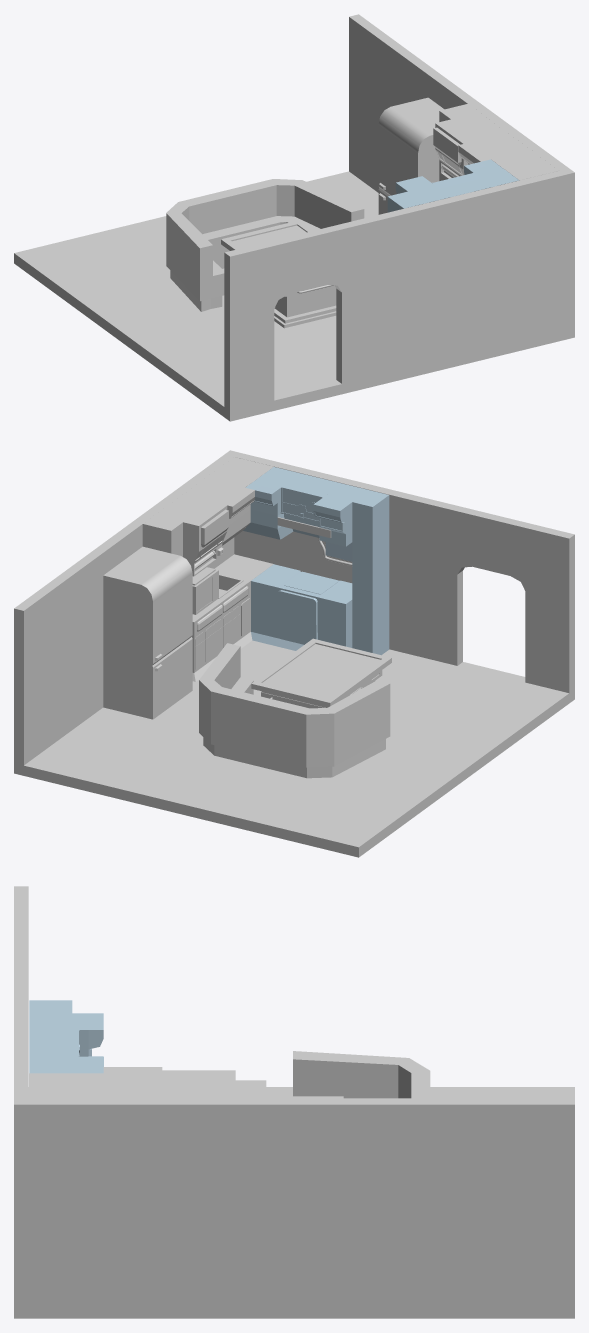
File: kitchen_exp.fbx
3 views of the same model, one above another, from view 1: azimuth 30°, elevation 25°; view 2: azimuth 150°, elevation 25°; view 3: azimuth 270°, elevation 25° (orthographic). The views are drawn at different scales.
Visible parts, largest first — view 1: Cube.010, Cube.040, Cube.038, Cube.041, Cube.026, Cube.018, NurbsPath.001, Cube.023; view 2: Cube.040, Cube.010, Cube.023, Cube.041, Cube.038, Cube.018, Cube.026, NurbsPath.001, Cube.019; view 3: Cube.041, Cube.040, Cube.026, Cube.010, Cube.038, Cube.023.
Part boxes in pixels (x1,y1,x2,y2): Cube.010: (224, 168, 574, 411); Cube.040: (14, 171, 574, 421); Cube.038: (166, 179, 364, 311); Cube.041: (349, 14, 568, 192); Cube.026: (433, 104, 558, 185); Cube.018: (378, 97, 444, 214); NurbsPath.001: (221, 220, 336, 328); Cube.023: (387, 159, 518, 212); Cube.040: (14, 640, 574, 857); Cube.010: (225, 450, 574, 692); Cube.023: (243, 467, 389, 655); Cube.041: (14, 454, 234, 765); Cube.038: (199, 643, 390, 778); Cube.018: (103, 546, 192, 719); Cube.026: (142, 457, 273, 681); NurbsPath.001: (251, 638, 391, 708); Cube.019: (192, 567, 218, 614); Cube.041: (28, 1098, 574, 1305); Cube.040: (14, 1087, 574, 1318); Cube.026: (29, 1067, 266, 1098); Cube.010: (14, 886, 28, 1305); Cube.038: (293, 1051, 430, 1098); Cube.023: (29, 1000, 103, 1073).
Size of the model in its own units: 760 by 700 by 320.
